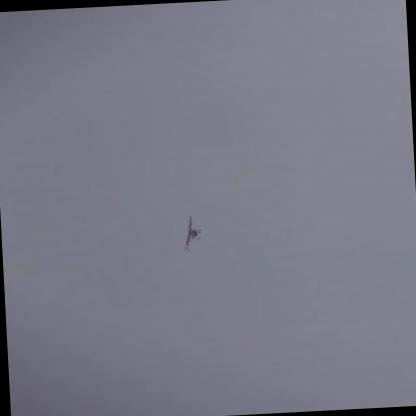plane: (176, 213, 207, 251)
